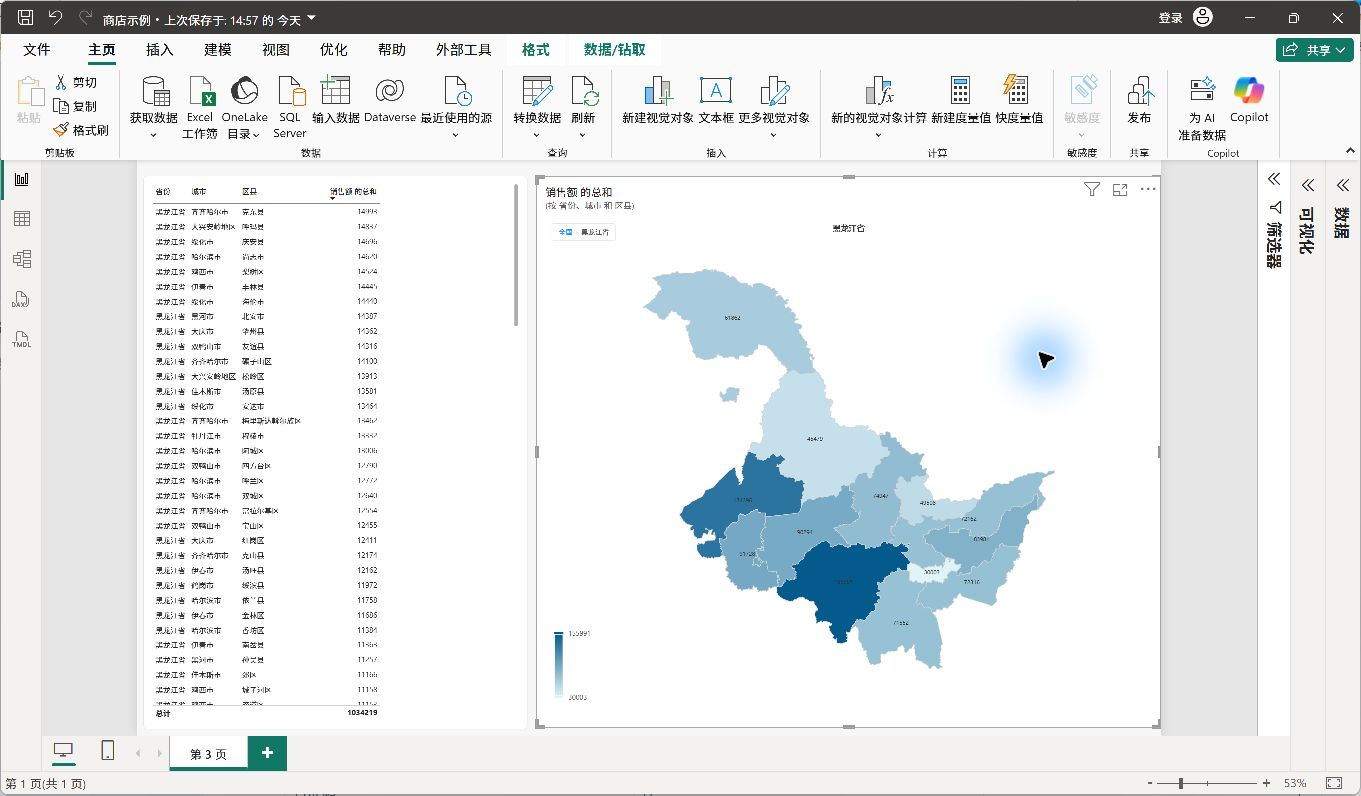

The dashboard page shown, as its layout file describes it:
{"tool":"powerbi","page":{"name":"第 3 页","canvas":[1920,1080],"ordinal":0},"visuals":[{"type":"chinaMapDrilldownV2F4A1C8D973E64B5AA27D1E6C80B42951","fields":{"province":["地图测试数据.省份"],"measure":["Sum(地图测试数据.销售额)"],"city":["地图测试数据.城市"],"district":["地图测试数据.区县"]},"box":[748,29.8,1172,1035.6],"z":1},{"type":"tableEx","fields":{"Values":["地图测试数据.省份","地图测试数据.城市","地图测试数据.区县","Sum(地图测试数据.销售额)"]},"box":[10.7,29.8,720.3,1037.8],"z":2}]}

Visuals, with their boxes on the page's 1920x1080 design canvas (x1, y1, x2, y2). These are canvas units, not pixel positions in the 1361x796 screenshot, which may show the page scaled, cropped or inside an application window:
chinaMapDrilldownV2F4A1C8D973E64B5AA27D1E6C80B42951 - 地图测试数据.省份 x Sum(地图测试数据.销售额): BBox(748, 30, 1920, 1065)
tableEx - 地图测试数据.省份 x 地图测试数据.城市: BBox(11, 30, 731, 1068)
